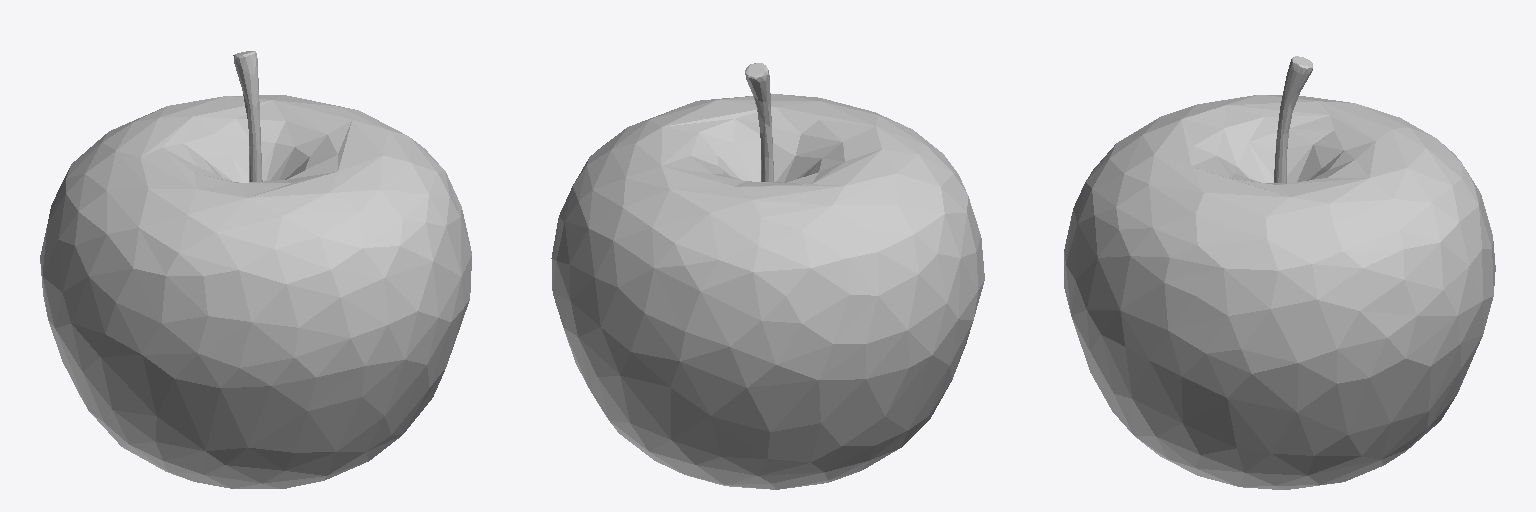
Rendered from Apple.mtl.obj.
The picture shows the model from 3 angles: view 1: azimuth 30°, elevation 25°; view 2: azimuth 150°, elevation 25°; view 3: azimuth 270°, elevation 25°; orthographic projection.
Visible parts, largest first — view 1: Cylinder.004_Cylinder.002; view 2: Cylinder.004_Cylinder.002; view 3: Cylinder.004_Cylinder.002.
Part boxes in pixels (x1,y1,x2,y2): Cylinder.004_Cylinder.002: (40, 51, 471, 488); Cylinder.004_Cylinder.002: (551, 63, 984, 489); Cylinder.004_Cylinder.002: (1064, 56, 1495, 489).
Size of the model in its own units: 0.6591 by 0.6647 by 0.6567.